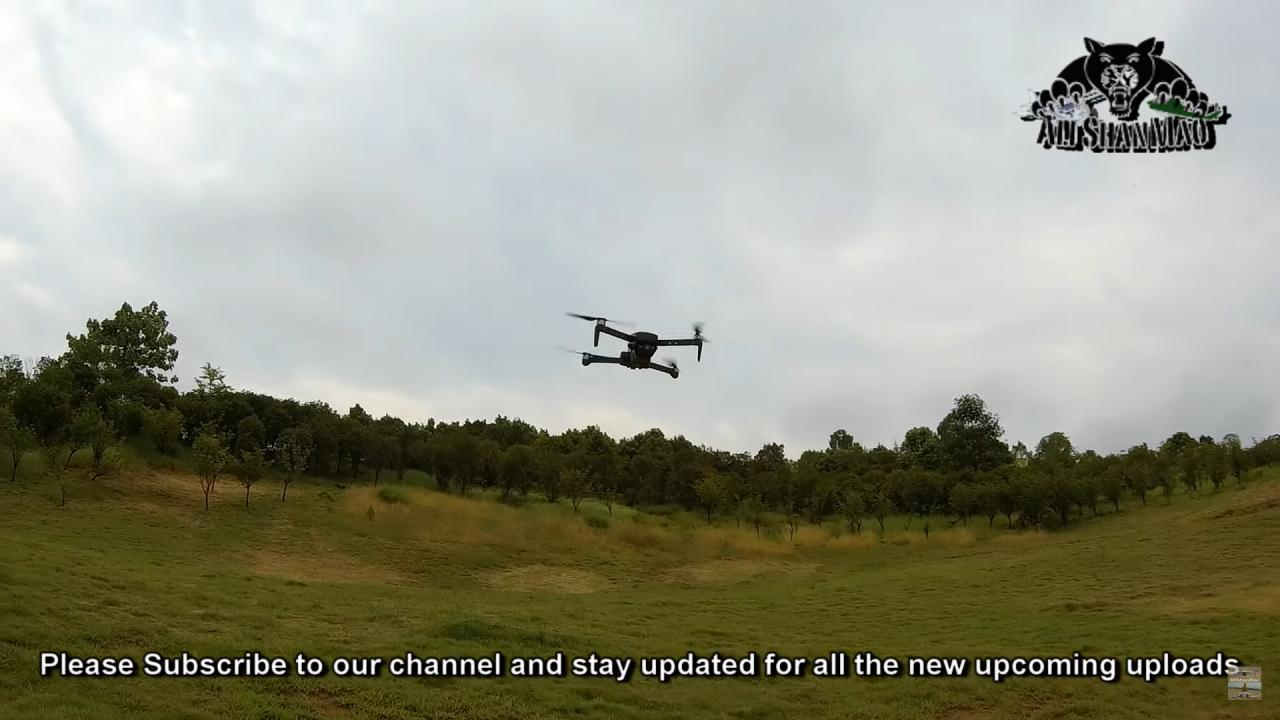Drone: (549, 297, 720, 392)
